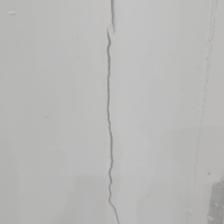High: (93, 1, 134, 224)
